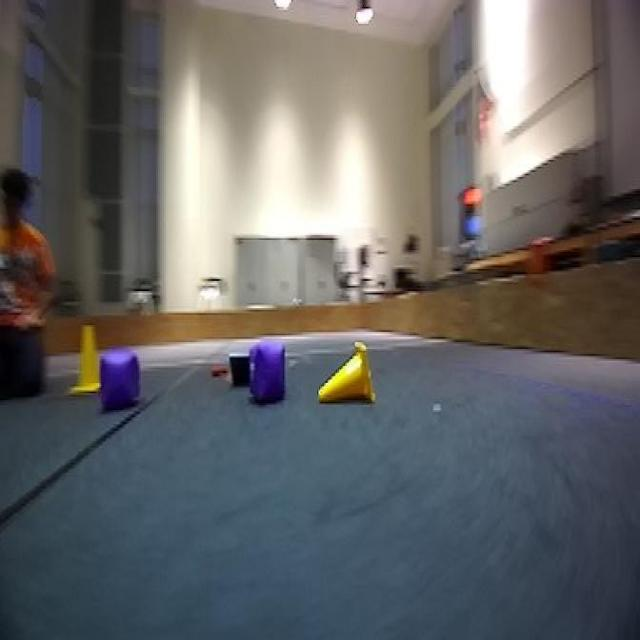frc_cone: (316, 337, 379, 417), (69, 320, 101, 397)
frc_cube: (248, 340, 290, 407), (105, 352, 146, 414)
